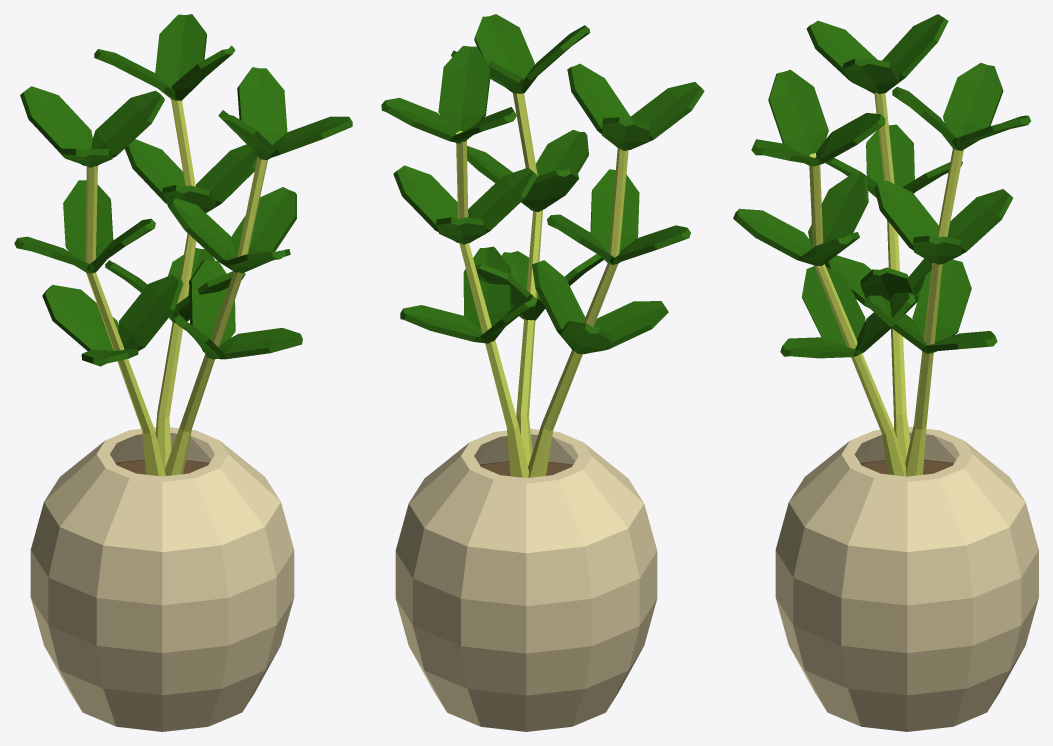
The model's file is Plant.fbx.
The picture shows the model from 3 angles, left to right: view 1: azimuth 30°, elevation 25°; view 2: azimuth 150°, elevation 25°; view 3: azimuth 270°, elevation 25°; orthographic projection.
Parts seen in each view (by area): view 1: Plant; view 2: Plant; view 3: Plant.
Part boxes in pixels (bbox=[...]): Plant: bbox=[14, 14, 352, 731]; Plant: bbox=[381, 14, 704, 731]; Plant: bbox=[733, 14, 1038, 731].
Size of the model in its own units: 239 by 531 by 232.
